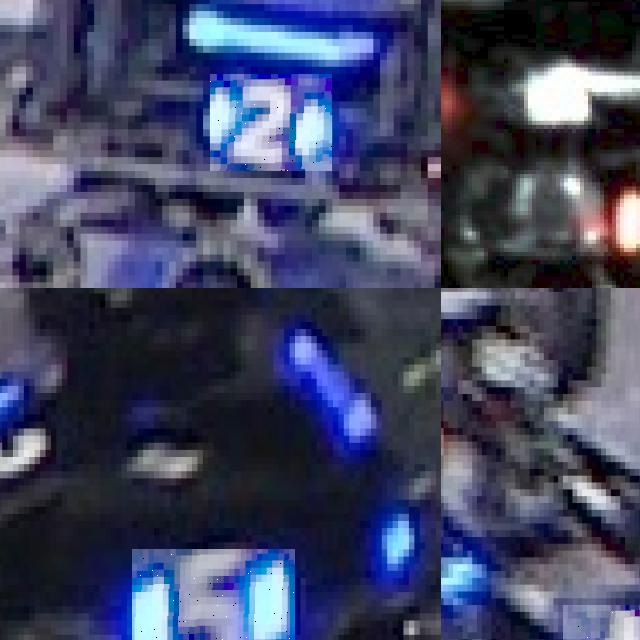B2: (210, 74, 332, 171)
B5: (132, 549, 294, 640)
Rs: (612, 190, 640, 264)
